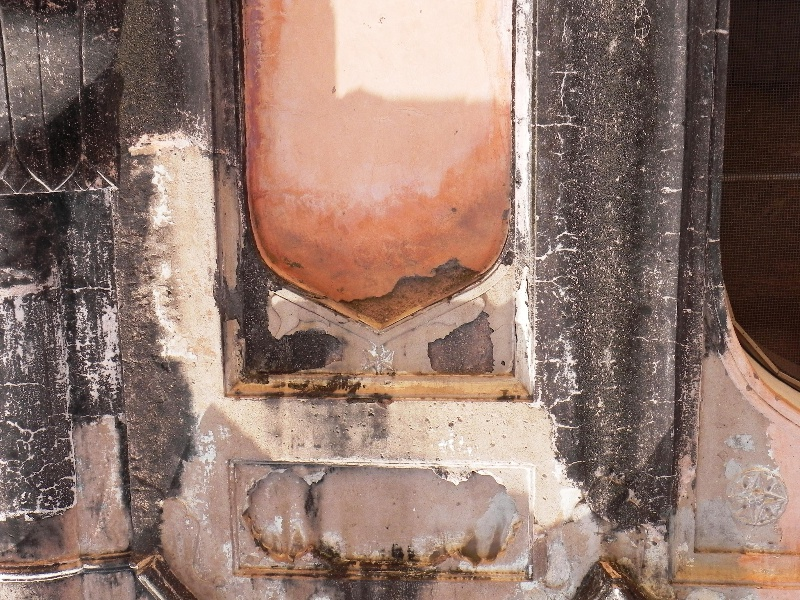Spalling: (328, 244, 510, 380)
